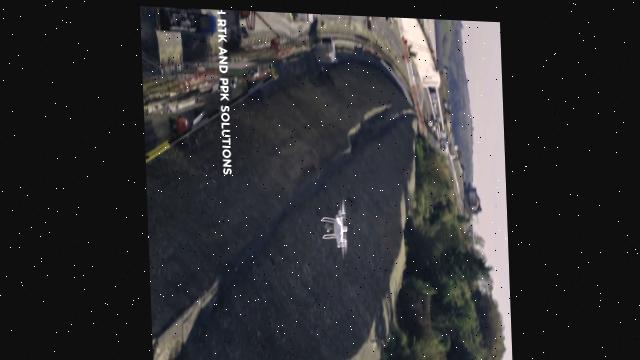drone: (317, 193, 349, 255)
